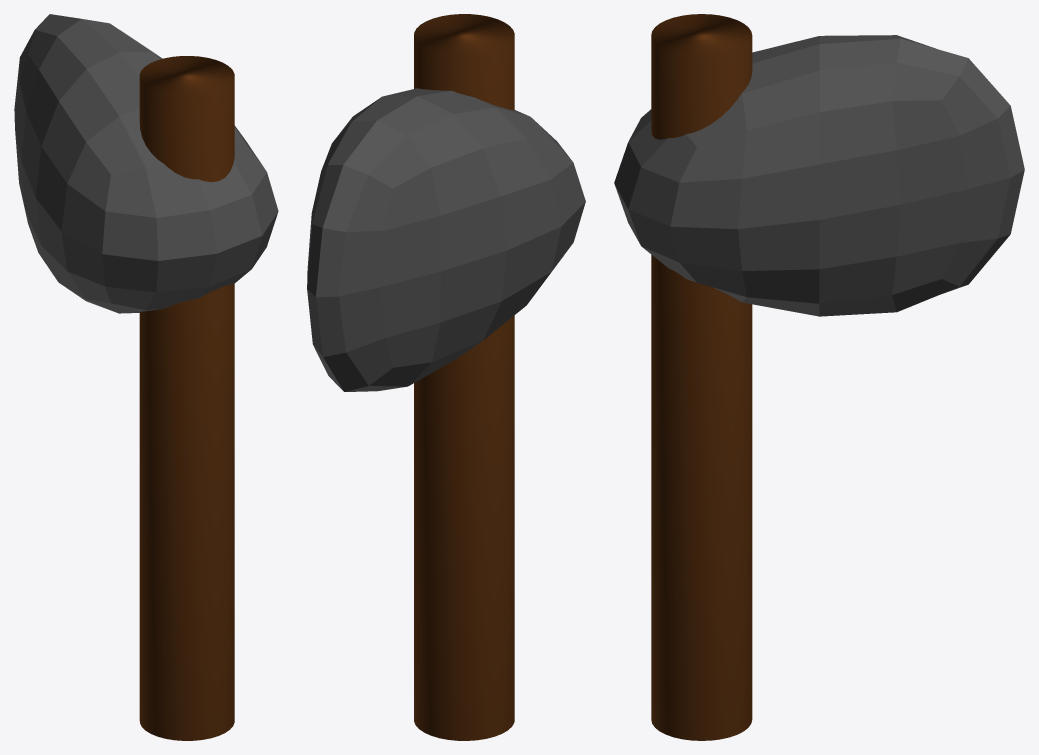
File: ono.fbx
3 renders of one model, left to right at view 1: azimuth 30°, elevation 25°; view 2: azimuth 150°, elevation 25°; view 3: azimuth 270°, elevation 25°, orthographic. The views are drawn at different scales.
Parts seen in each view (by area): view 1: 円柱, 立方体; view 2: 立方体, 円柱; view 3: 立方体, 円柱.
Boxes of the visible parts, box(x1,y1,x2,y2) form: 円柱: box(139, 56, 234, 740); 立方体: box(14, 14, 278, 313); 立方体: box(307, 88, 585, 391); 円柱: box(414, 14, 514, 740); 立方体: box(614, 35, 1024, 316); 円柱: box(651, 14, 752, 740).
Bounding box in the file's own units: 1339 × 4252 × 2313.
